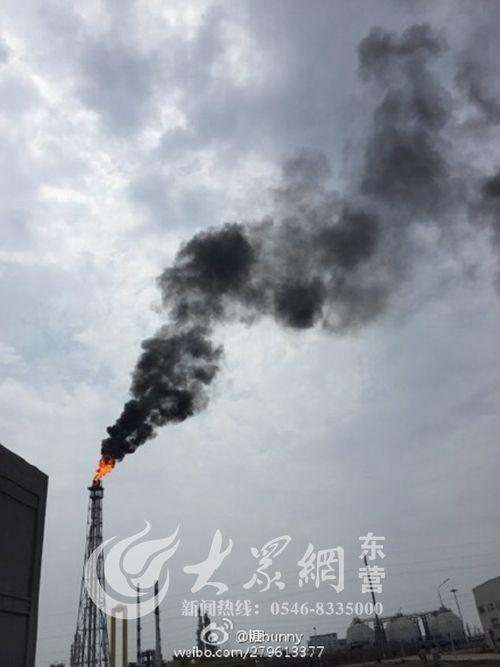fire: (85, 450, 130, 495)
smoke: (161, 47, 497, 314)
